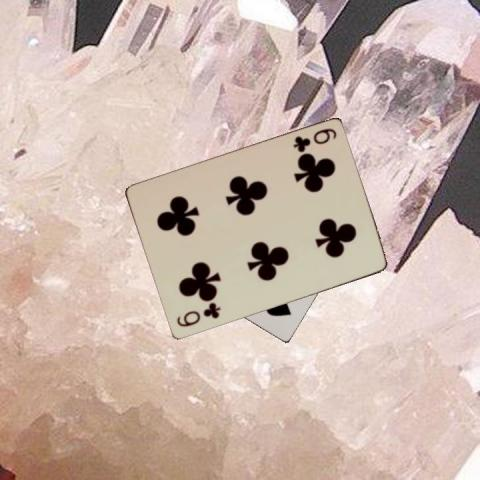6c: (289, 125, 338, 154), (173, 300, 222, 328)
